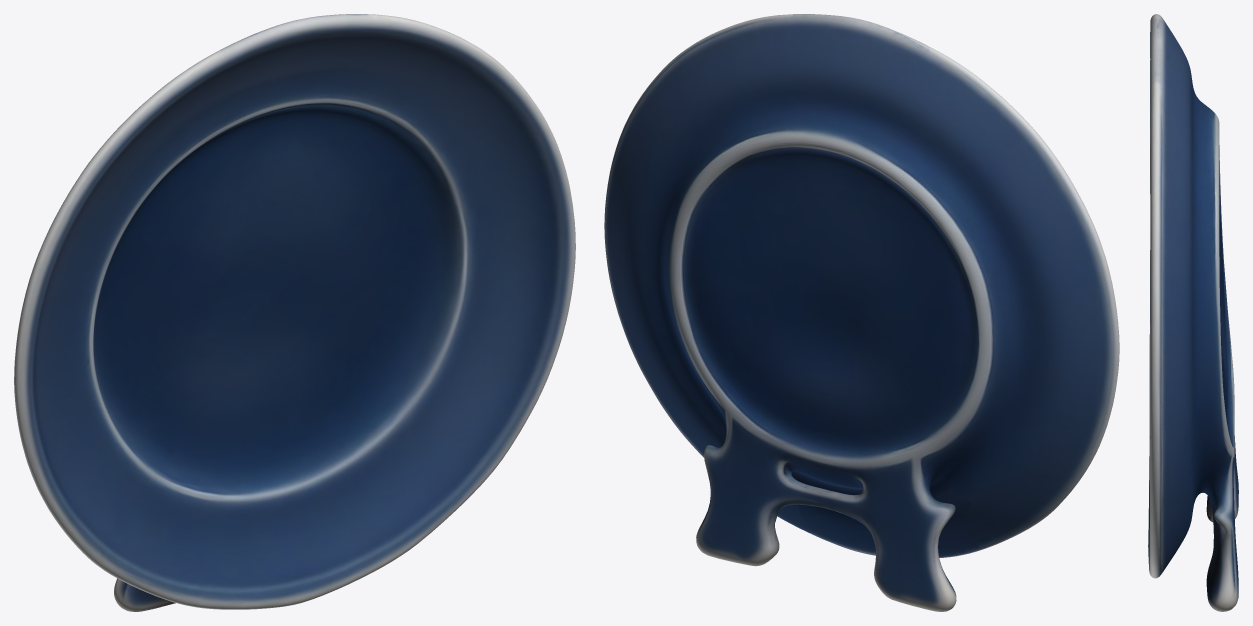
File: jilan.glb
3 views of the same model, side by side, from view 1: azimuth 30°, elevation 25°; view 2: azimuth 150°, elevation 25°; view 3: azimuth 270°, elevation 25° (orthographic). The views are drawn at different scales.
Visible parts, largest first — view 1: node_0; view 2: node_0; view 3: node_0.
Boxes of the visible parts, box(x1,y1,x2,y2) form: node_0: box(14, 14, 575, 611); node_0: box(604, 14, 1119, 611); node_0: box(1148, 14, 1238, 611).
Bounding box in the file's own units: 1.09 × 1.09 × 0.173.
1 material, 1 textured.
